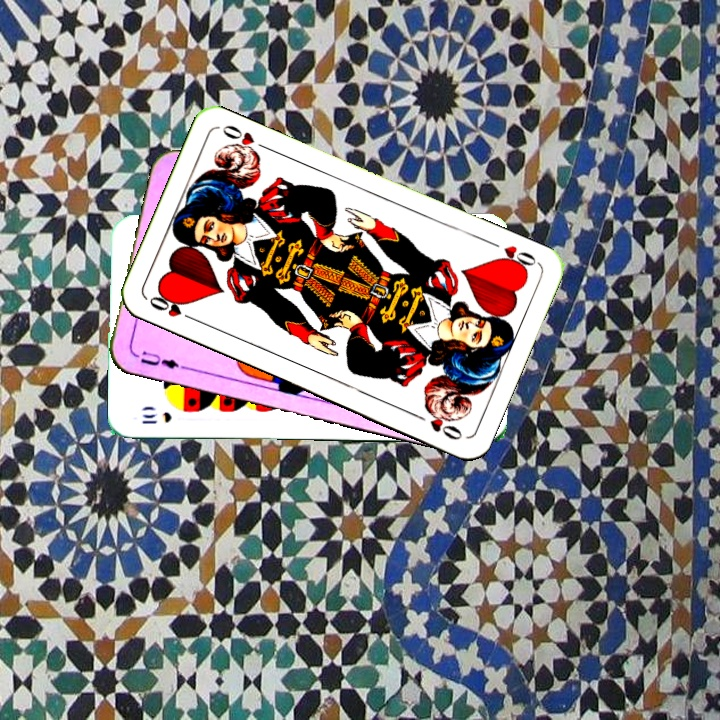EU: (131, 346, 189, 372)
HO: (484, 236, 540, 275), (145, 291, 200, 325)
S10: (138, 408, 174, 426)
